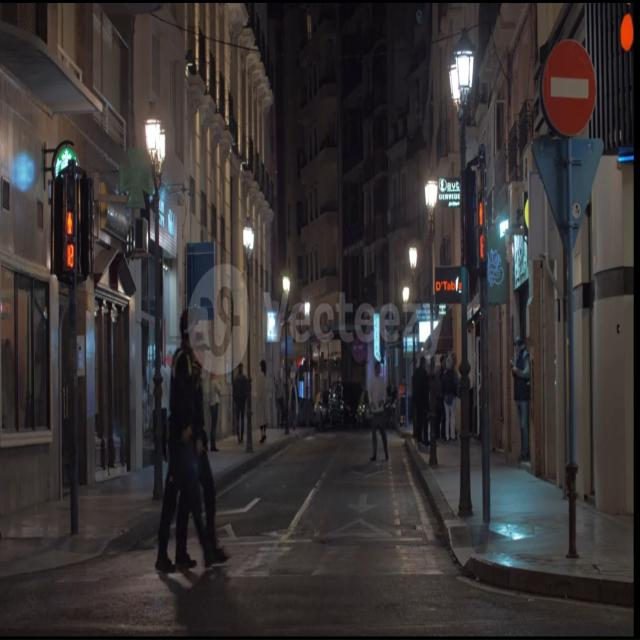pedestrian: (156, 309, 226, 572), (193, 334, 228, 562)
